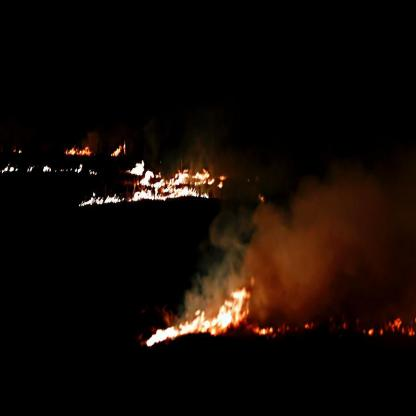fire: (145, 280, 416, 341), (56, 145, 226, 214)
